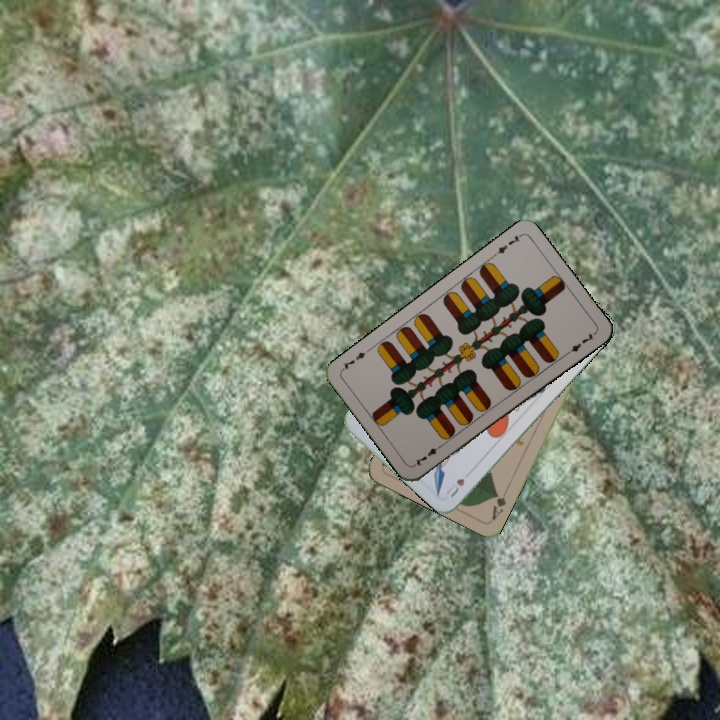E7: (410, 440, 446, 468), (489, 231, 524, 259)
GA: (487, 484, 511, 523)
HU: (442, 474, 467, 500)
